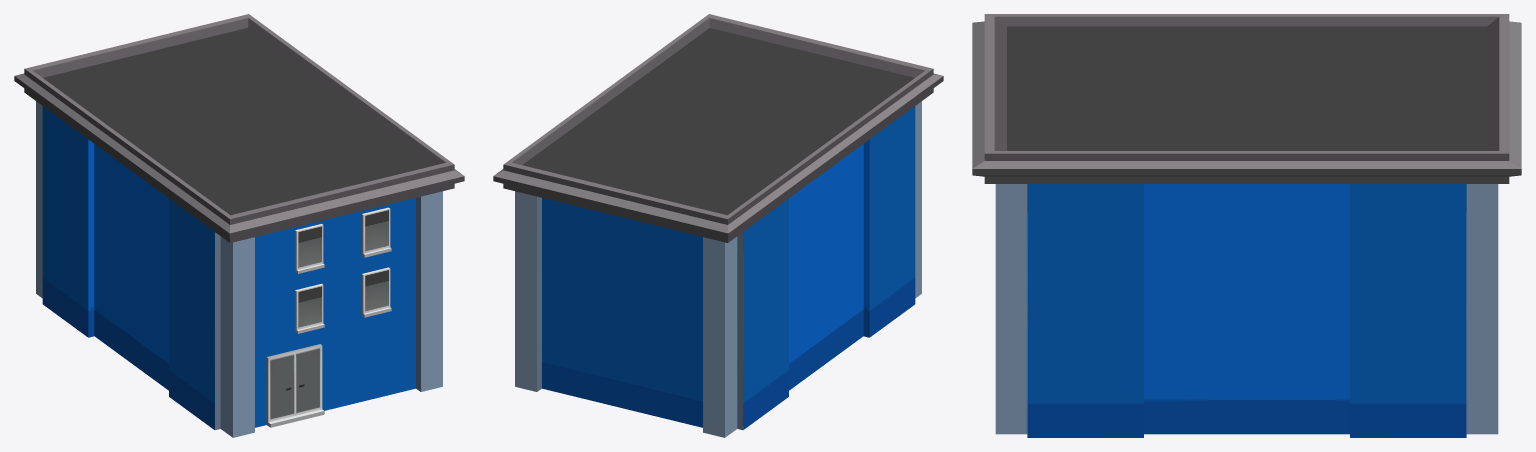
The model's file is Blue Apartment 1.fbx.
The picture shows the model from 3 angles, left to right: view 1: azimuth 30°, elevation 25°; view 2: azimuth 150°, elevation 25°; view 3: azimuth 270°, elevation 25°; orthographic projection. The views are drawn at different scales.
Parts seen in each view (by area): view 1: Blue Apartment; view 2: Blue Apartment; view 3: Blue Apartment.
Part boxes in pixels (x1,y1,x2,y2): Blue Apartment: (14,14,464,437); Blue Apartment: (493,14,943,437); Blue Apartment: (972,14,1521,437).
Size of the model in its own units: 246 by 224 by 391.
